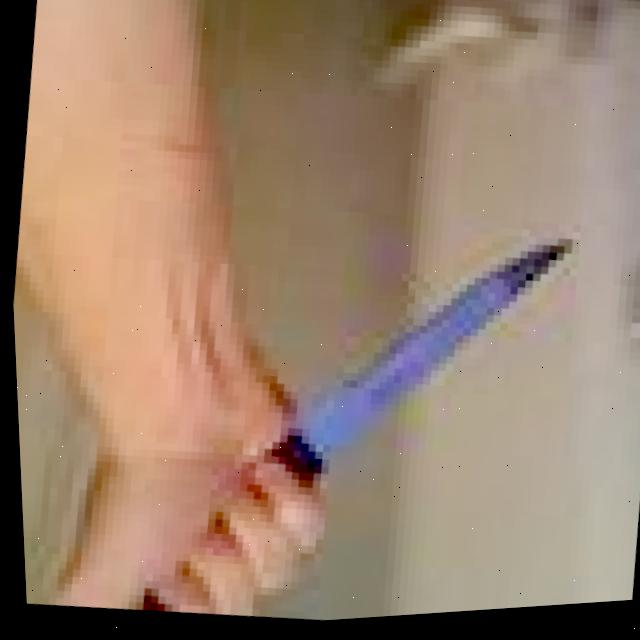knife: (243, 208, 575, 534)
